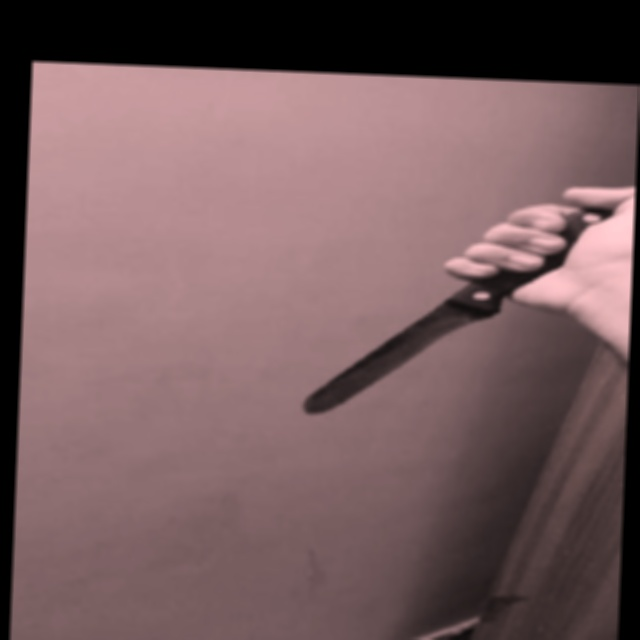Sharp-Object: (304, 198, 614, 424)
